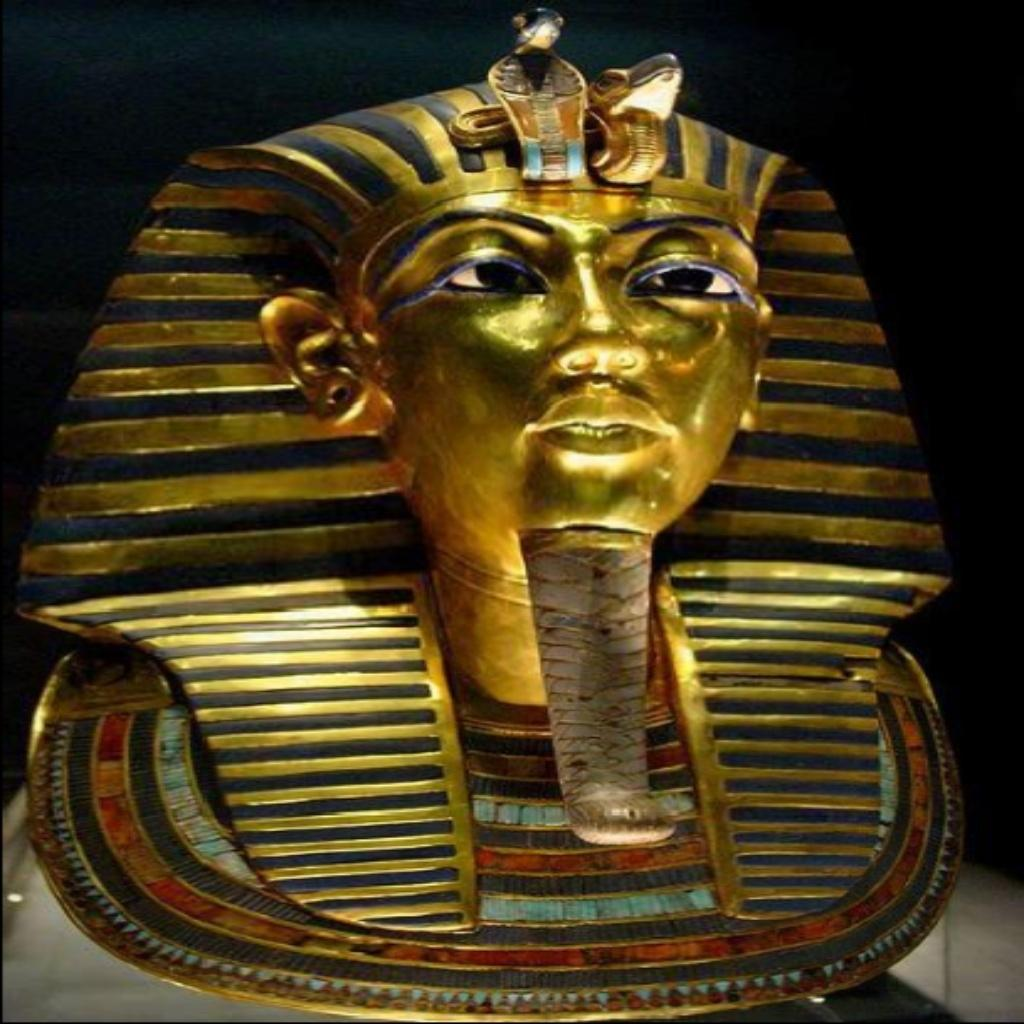Mask of Tutankhamun: (15, 8, 970, 1018)
